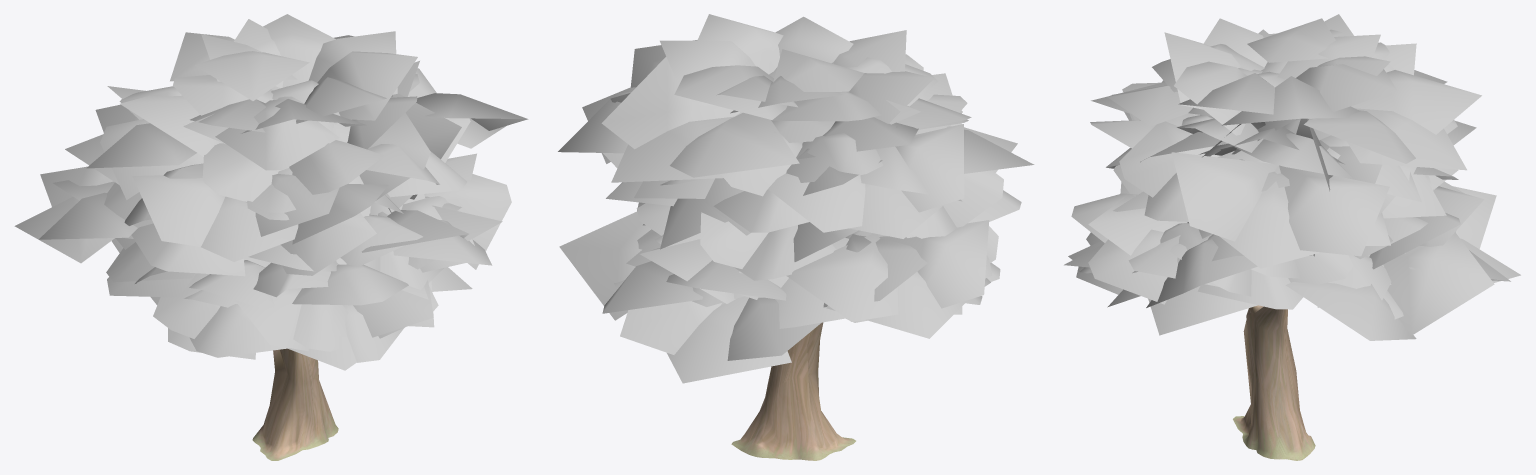
Rendered from ficus_tree.fbx.
3 views of the same model, side by side, from view 1: azimuth 30°, elevation 25°; view 2: azimuth 150°, elevation 25°; view 3: azimuth 270°, elevation 25° (orthographic). The views are drawn at different scales.
Visible parts, largest first — view 1: focus_LOD0; view 2: focus_LOD0; view 3: focus_LOD0.
Part boxes in pixels (x1=…): focus_LOD0: x1=14, y1=14, x2=528, y2=460; focus_LOD0: x1=558, y1=14, x2=1034, y2=460; focus_LOD0: x1=1064, y1=14, x2=1520, y2=460.
Size of what is drawn, in the model's own units: 1173 by 1001 by 1067.
